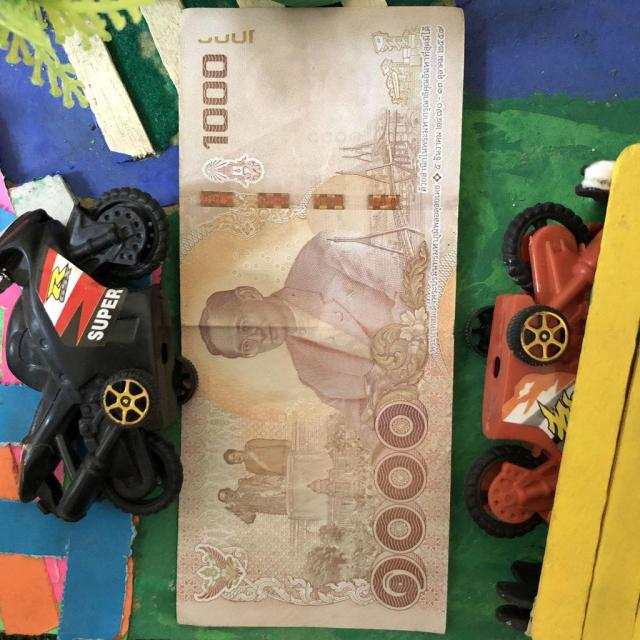THAI1000: (176, 6, 464, 631)
